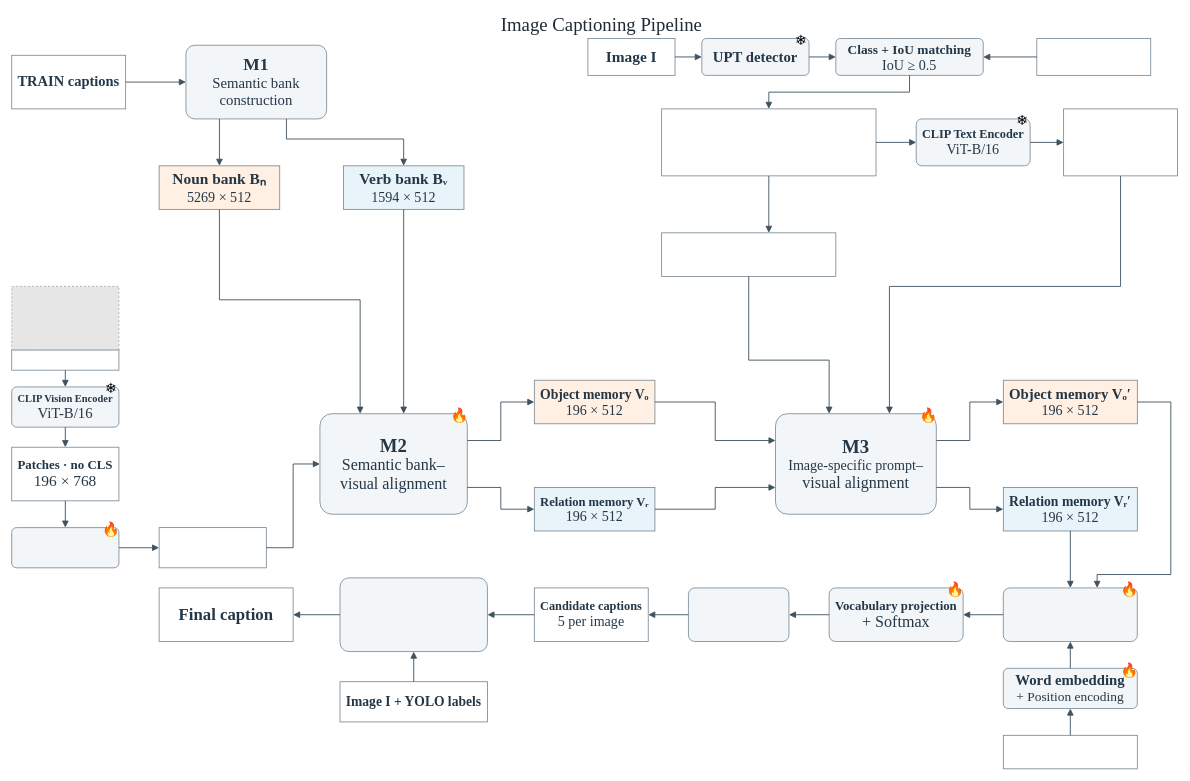
This 1190x781 diagram has some shape labels left out. Grey dashed boxes stand in for pictures. Here are the shapes that lost their labels. From the top down, the centre of each, then its label:
At (x=1093, y=56): "YOLO boxes".
At (x=768, y=142): "Matched prompt record e.g., person; bicycle e.g., person riding bicycle".
At (x=1120, y=142): "Prompt embeddings tₒ, tᵣ L₂-normalized · 512-D".
At (x=748, y=254): "ROI links + valid slots Box / pair geometry".
At (x=65, y=359): "Input image I".
At (x=65, y=547): "Linear projection 768 → 512".
At (x=212, y=547): "Visual memory V 196 × 512".
At (x=413, y=614): "Caption reranking Decoder likelihood CLIP alignment Object consistency".
At (x=738, y=614): "Beam search K = 5".
At (x=1070, y=614): "Transformer Decoder 3 layers · parallel attention".
At (x=1070, y=752): "Caption prefix".
